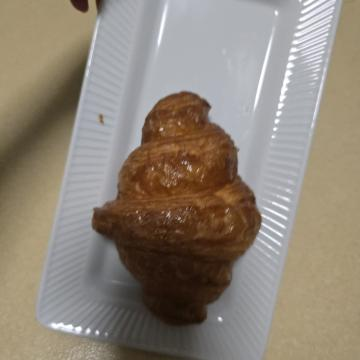croissant: (82, 88, 341, 281)
